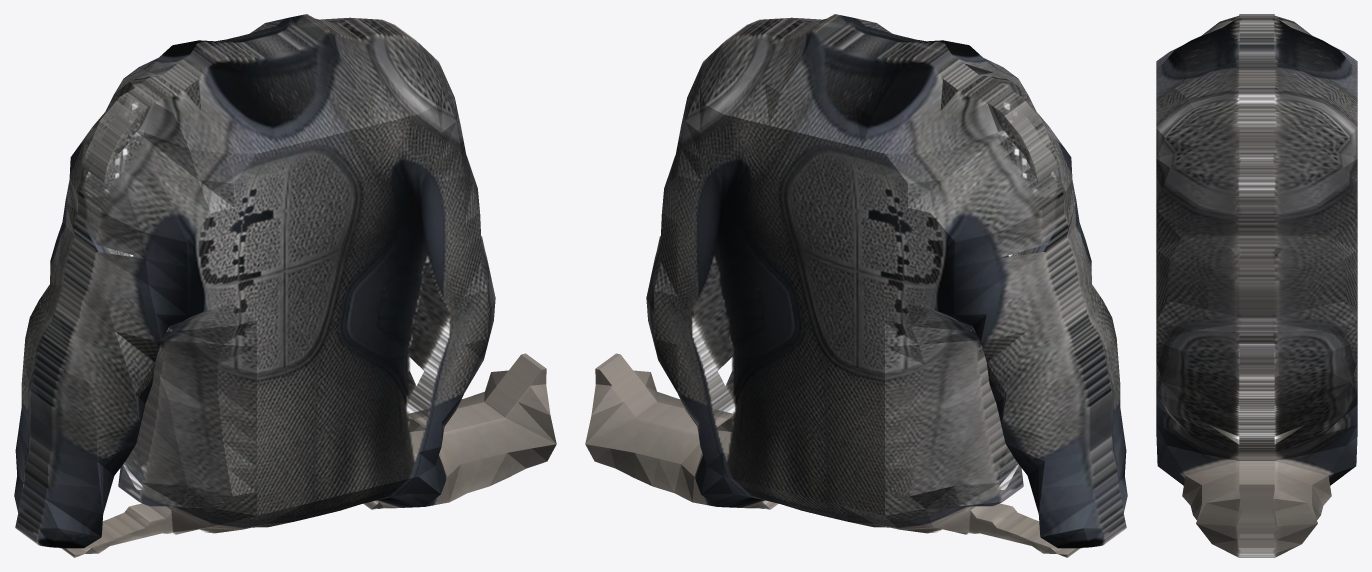
Rendered from held-vantage-armored-shirt-172.glb.
The picture shows the model from 3 angles, left to right: view 1: azimuth 30°, elevation 25°; view 2: azimuth 150°, elevation 25°; view 3: azimuth 270°, elevation 25°; orthographic projection. The views are drawn at different scales.
Visible parts, largest first — view 1: world; view 2: world; view 3: world.
Boxes of the visible parts, x1,y1,x2,y2 form: world: (14, 14, 556, 557); world: (585, 14, 1127, 557); world: (1156, 14, 1357, 557).
Size of the model in its own units: 1 by 0.9249 by 0.4.
1 material, 1 textured.
